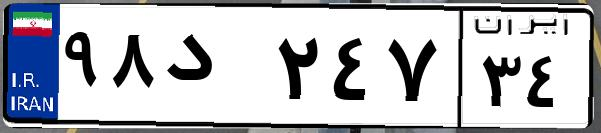2: (270, 28, 330, 110)
3: (475, 38, 525, 113)
4: (330, 28, 385, 110), (525, 38, 570, 115)
7: (385, 28, 445, 110)
8: (110, 28, 158, 98)
9: (57, 26, 110, 100)
د: (158, 20, 270, 120)
